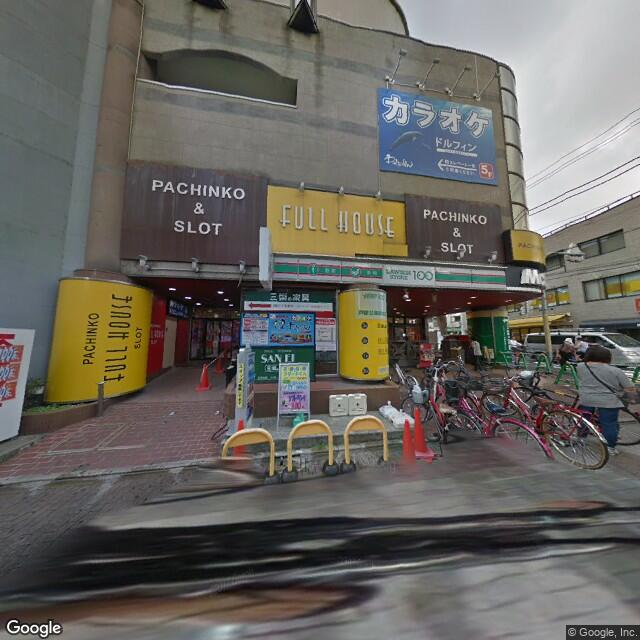lawson: (264, 252, 510, 295)
